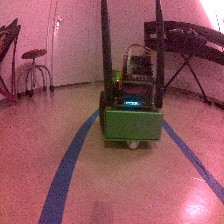rob: (97, 53, 165, 149)
